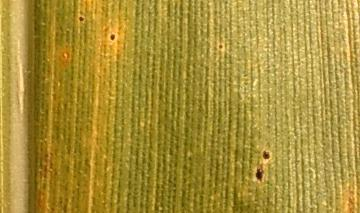tarspot: (254, 166, 264, 183), (260, 149, 271, 161), (109, 32, 117, 44), (76, 14, 85, 24), (217, 43, 225, 50)
